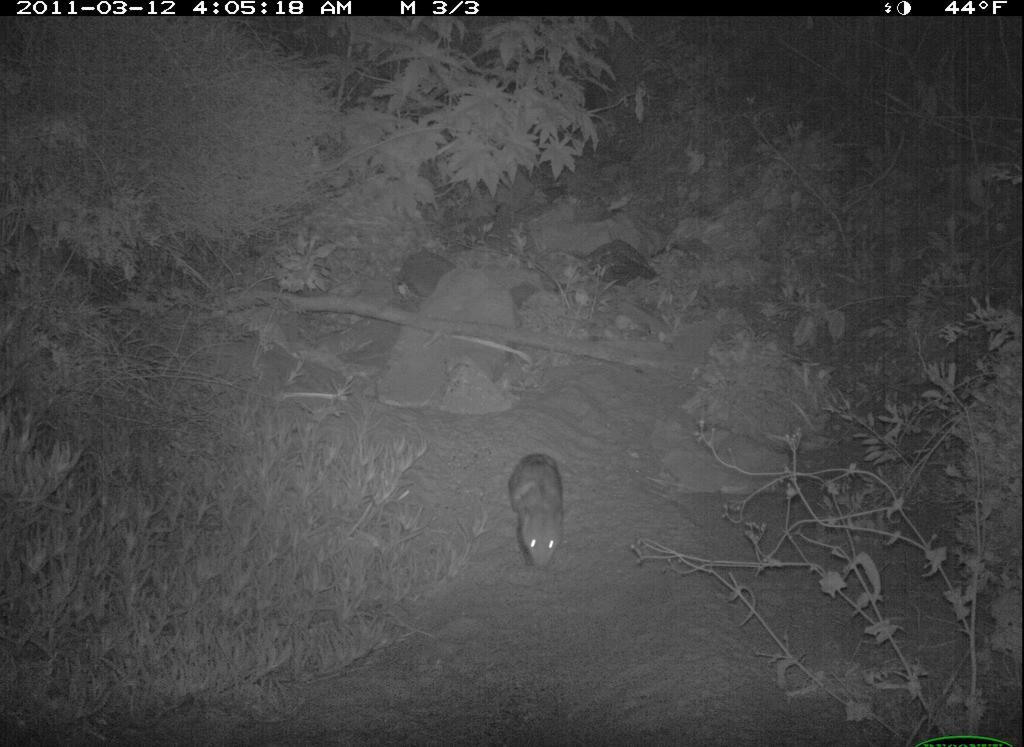opossum: (501, 445, 578, 583)
